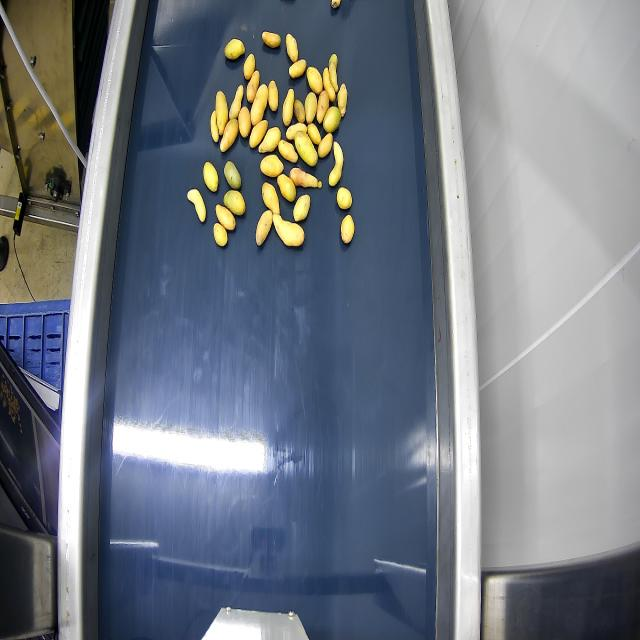Baby Potato: (273, 216, 304, 247), (294, 132, 317, 167), (251, 84, 268, 126), (328, 142, 343, 186), (289, 168, 321, 188), (187, 189, 205, 223), (258, 127, 281, 153), (220, 119, 238, 152), (256, 210, 272, 246), (215, 91, 228, 135), (249, 120, 268, 148), (262, 183, 279, 214), (260, 155, 283, 177), (224, 191, 245, 215), (216, 205, 235, 231), (224, 161, 241, 190), (277, 174, 295, 201), (246, 69, 260, 103), (293, 194, 310, 222), (229, 85, 243, 119), (323, 106, 340, 133), (203, 162, 218, 192), (306, 66, 322, 94), (278, 140, 298, 162), (224, 39, 244, 60), (323, 68, 335, 103), (283, 89, 294, 127), (238, 106, 251, 138), (317, 90, 329, 124), (341, 215, 354, 244), (305, 92, 317, 123), (213, 223, 228, 247), (329, 54, 338, 93), (286, 34, 298, 63), (286, 123, 306, 140), (318, 134, 332, 158), (289, 59, 306, 78), (243, 54, 255, 80), (268, 80, 278, 111), (307, 123, 321, 145), (337, 187, 351, 209), (338, 83, 347, 117), (262, 32, 281, 48), (210, 111, 219, 143), (293, 99, 305, 122), (331, 0, 340, 9)
